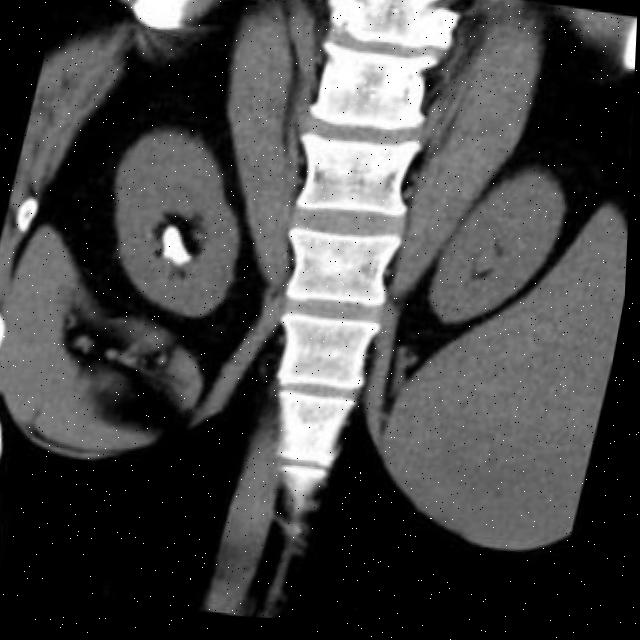Tas_Var: (150, 218, 205, 277)
